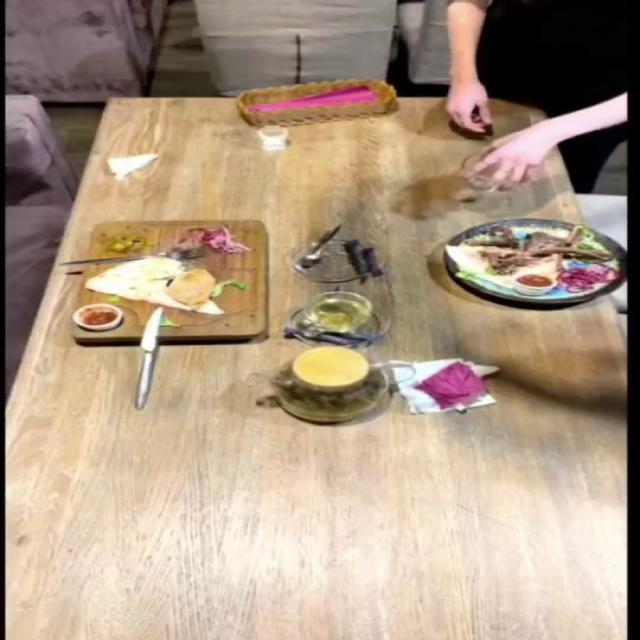meat: (422, 205, 634, 303)
tea: (278, 342, 382, 438)
